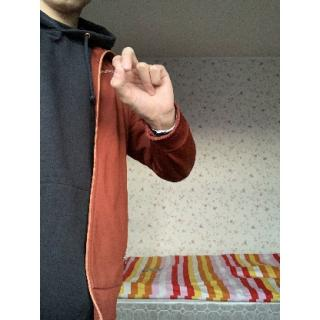QAAF: (106, 43, 183, 124)
